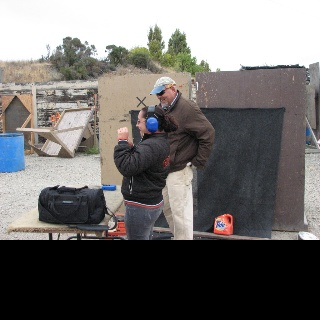without_mask: (136, 105, 165, 137), (150, 76, 177, 107)
